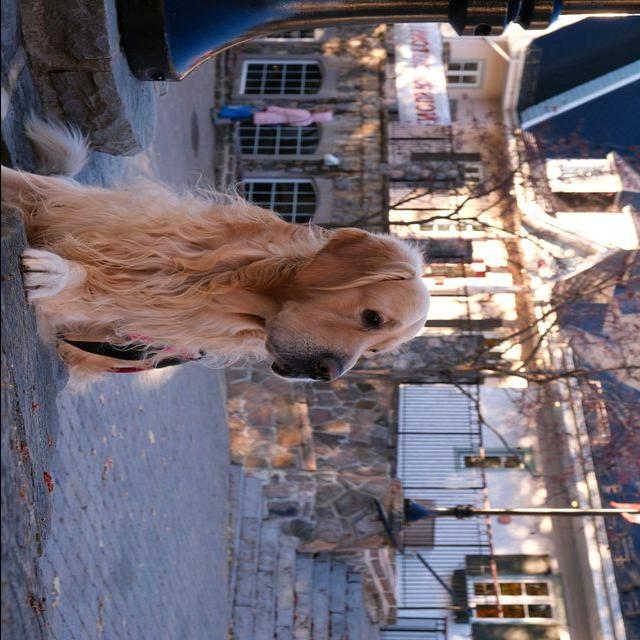retriever: (2, 111, 432, 395)
